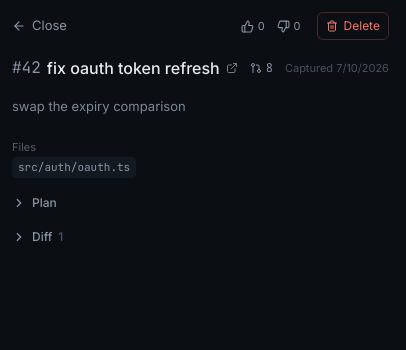
Test: MemoryRecordView — solutions › expands the plan and the diff on demand
Step 1. Click the button "Plan" → (34, 203), box [12,194,57,212]
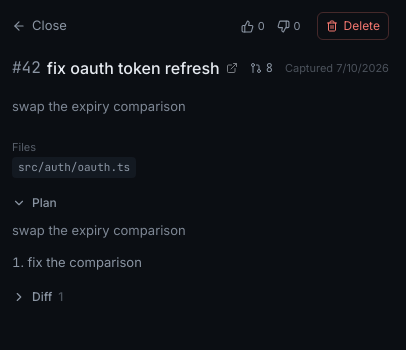
expect the list item "fix the comparison" is shown: met, box [27,254,142,270]
Step 2. Click the button "Diff 1" → (38, 297), box [12,288,63,306]
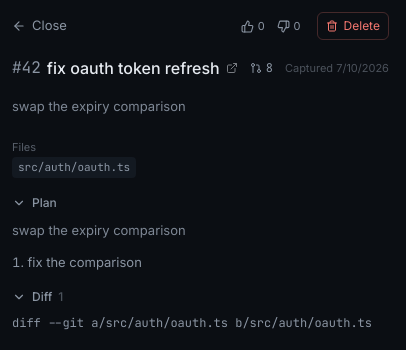
expect the text "diff --git a/src/auth/oauth.ts b/src/auth/oauth.ts" is shown: met, box [12,314,389,334]
